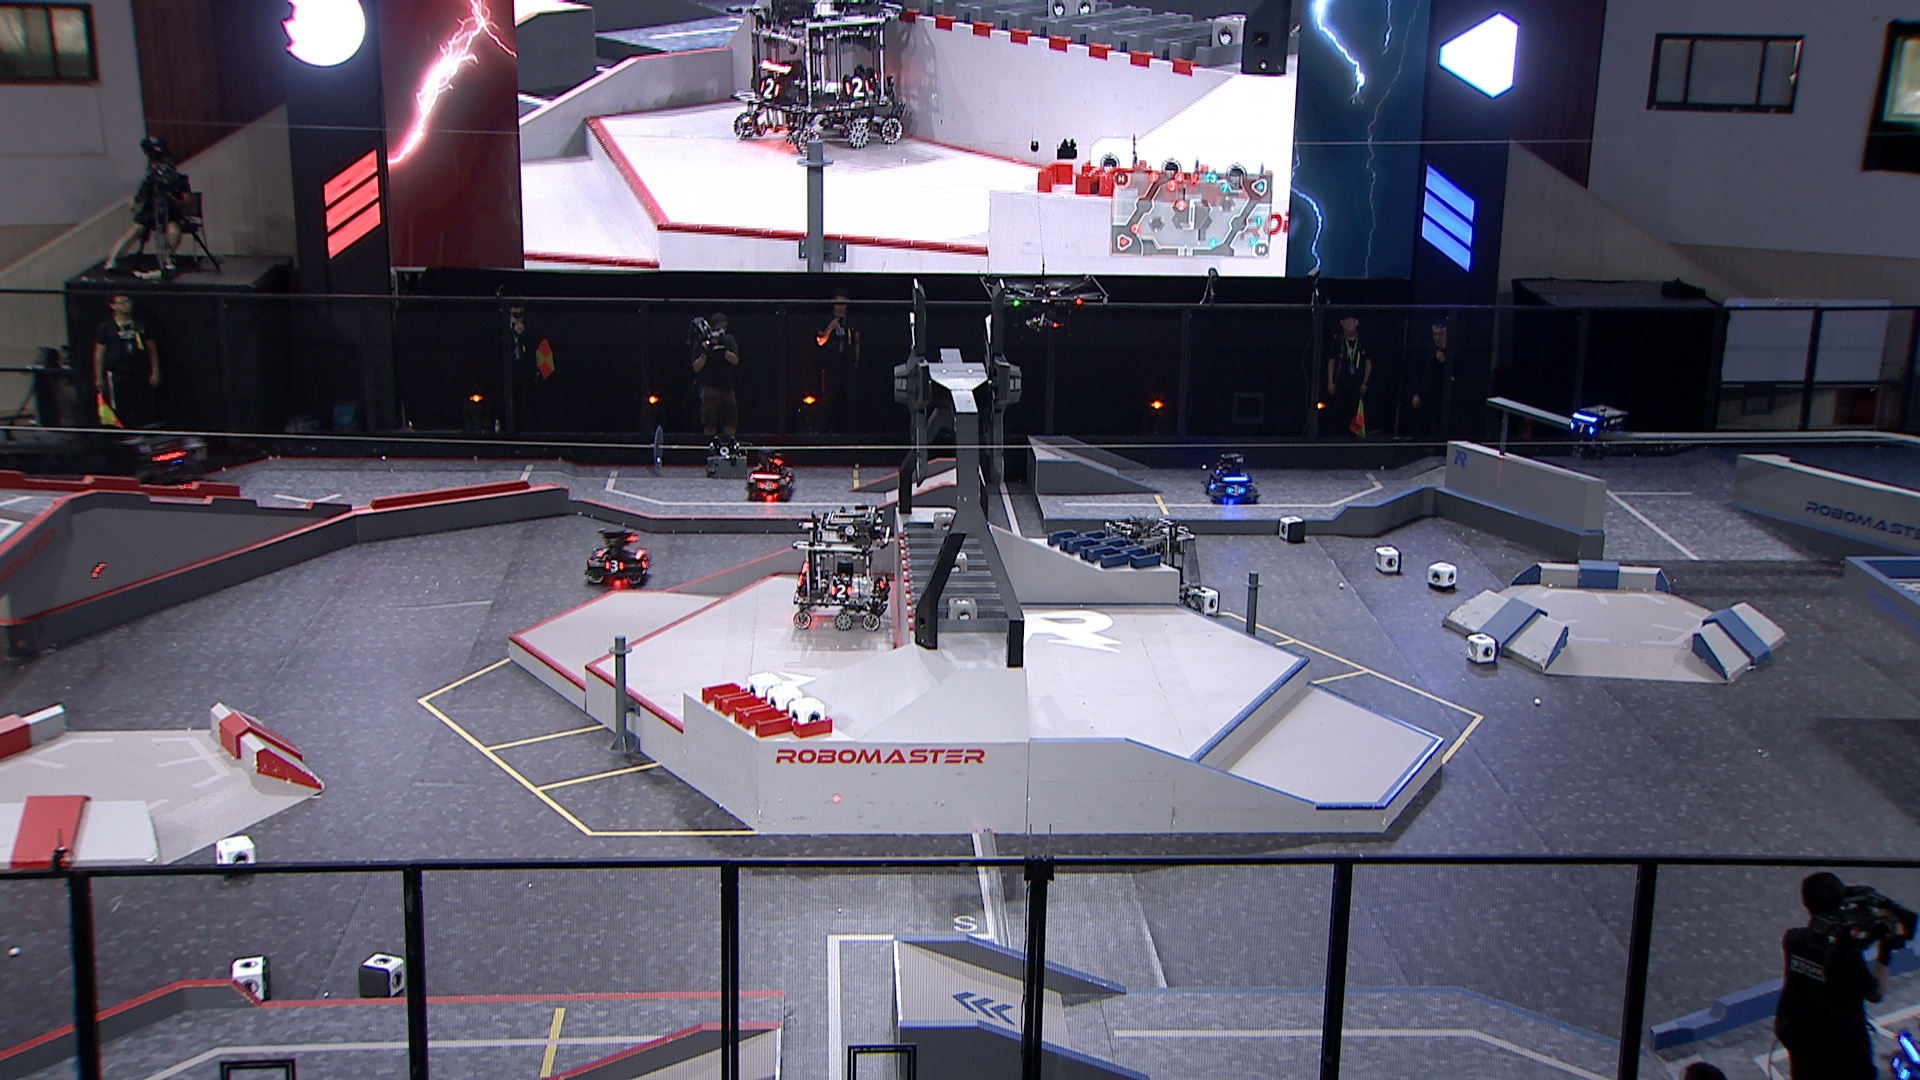armor: (1888, 1058, 1912, 1080), (1569, 419, 1596, 438), (829, 582, 852, 597), (603, 559, 626, 574), (756, 479, 778, 493), (1224, 483, 1245, 496), (876, 574, 889, 589), (1205, 477, 1216, 491)
car: (790, 504, 891, 632), (1101, 516, 1207, 632), (121, 425, 216, 518), (582, 527, 650, 585), (1195, 451, 1261, 502), (744, 454, 794, 502), (1884, 1031, 1920, 1080)
ignore: (728, 0, 909, 156)
watcher: (1567, 401, 1626, 462)
